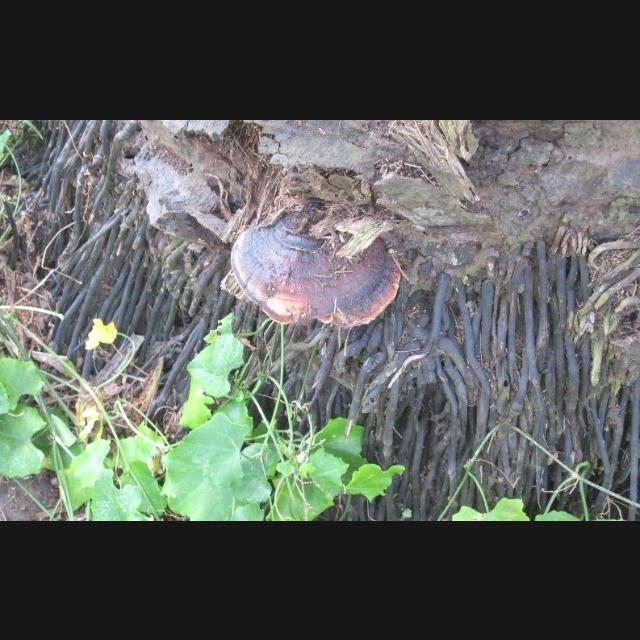ganoderma: (230, 206, 404, 331)
